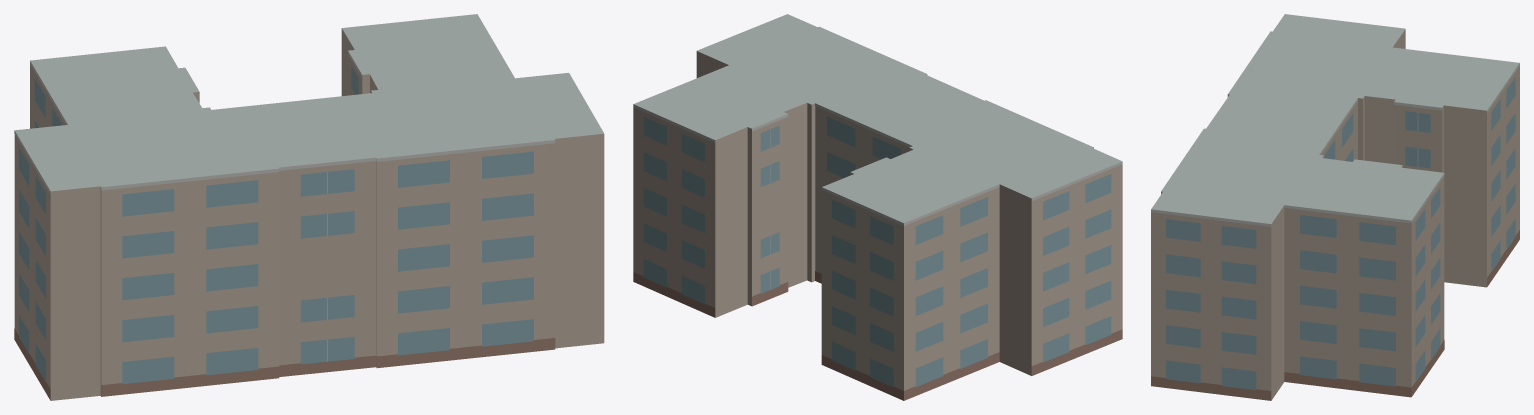
File: survey-upis-32626048.glb
3 views of the same model, side by side, from view 1: azimuth 30°, elevation 25°; view 2: azimuth 150°, elevation 25°; view 3: azimuth 270°, elevation 25° (orthographic). The views are drawn at different scales.
Parts seen in each view (by area): view 1: survey-upis-32626048.tmp; view 2: survey-upis-32626048.tmp; view 3: survey-upis-32626048.tmp.
Part boxes in pixels (left/top/right/bottom): survey-upis-32626048.tmp: left=14, top=14, right=604, bottom=400; survey-upis-32626048.tmp: left=633, top=14, right=1122, bottom=400; survey-upis-32626048.tmp: left=1151, top=14, right=1519, bottom=400.
Bounding box in the file's own units: 38.88 × 15.25 × 28.84.
